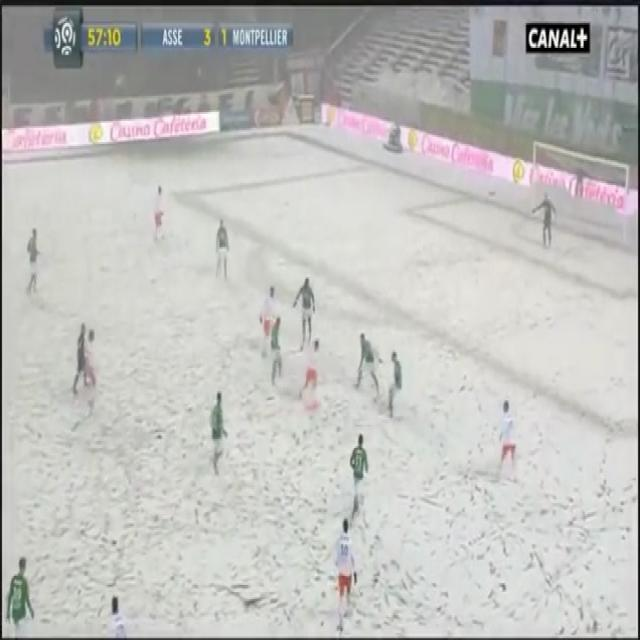goalkeeper: (540, 171, 564, 275)
player: (5, 529, 41, 640), (332, 514, 365, 624), (203, 377, 238, 480), (19, 209, 52, 297), (97, 567, 135, 640), (495, 387, 518, 482), (292, 273, 319, 350), (83, 316, 107, 402), (386, 346, 408, 437), (269, 308, 290, 392), (65, 316, 88, 390), (359, 324, 381, 399), (353, 435, 374, 513), (212, 209, 234, 280), (152, 179, 172, 257), (305, 328, 323, 405)
